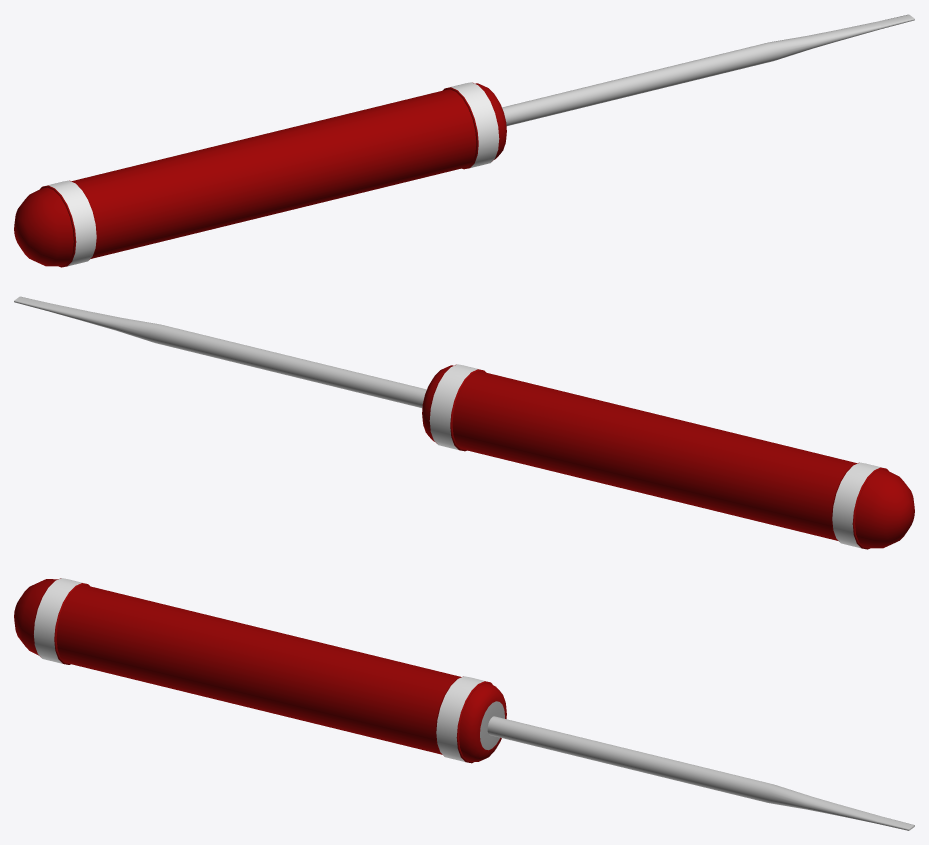
Rendered from screwdriver.fbx.
3 renders of one model, top to bottom at view 1: azimuth 30°, elevation 25°; view 2: azimuth 150°, elevation 25°; view 3: azimuth 330°, elevation 25°, orthographic.
Parts seen in each view (by area): view 1: pCylinder1; view 2: pCylinder1; view 3: pCylinder1.
Part boxes in pixels (x1,y1,x2,y2): pCylinder1: [14, 14, 914, 267]; pCylinder1: [14, 296, 914, 549]; pCylinder1: [14, 578, 914, 830].
Bounding box in the file's own units: 8.56 × 0.6975 × 0.7046.
